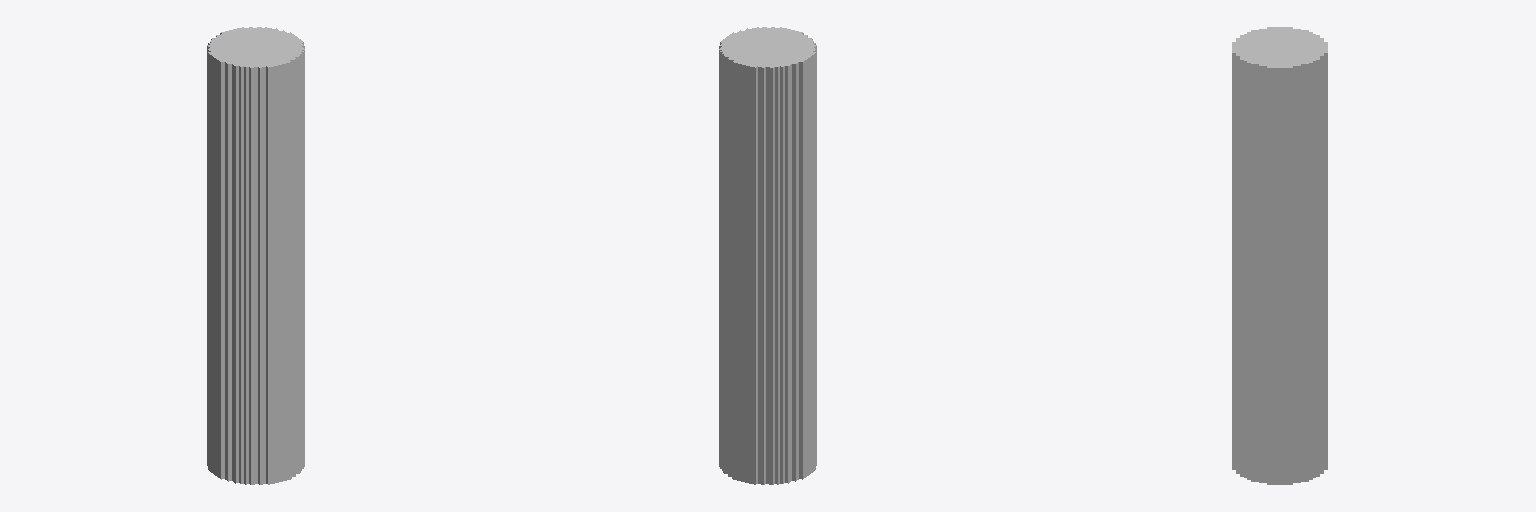
File: Model Board Pillar.obj
3 renders of one model, left to right at view 1: azimuth 30°, elevation 25°; view 2: azimuth 150°, elevation 25°; view 3: azimuth 270°, elevation 25°, orthographic.
Visible parts, largest first — view 1: object 1; view 2: object 1; view 3: object 1.
Part boxes in pixels (left/top/right/bottom): object 1: left=207, top=27, right=304, bottom=484; object 1: left=719, top=27, right=816, bottom=484; object 1: left=1232, top=27, right=1327, bottom=484.
Size of the model in its own units: 2.5 by 12 by 2.5.